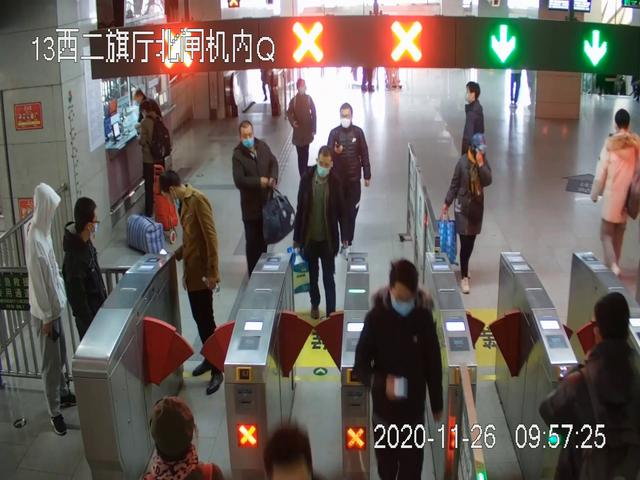person: (356, 259, 444, 480), (539, 291, 640, 480), (158, 169, 227, 395), (24, 183, 76, 437), (292, 146, 347, 321), (61, 197, 109, 394), (436, 132, 494, 293), (591, 107, 640, 274), (231, 120, 278, 285), (327, 102, 371, 254), (135, 104, 171, 212), (286, 79, 318, 179), (463, 78, 484, 194)
